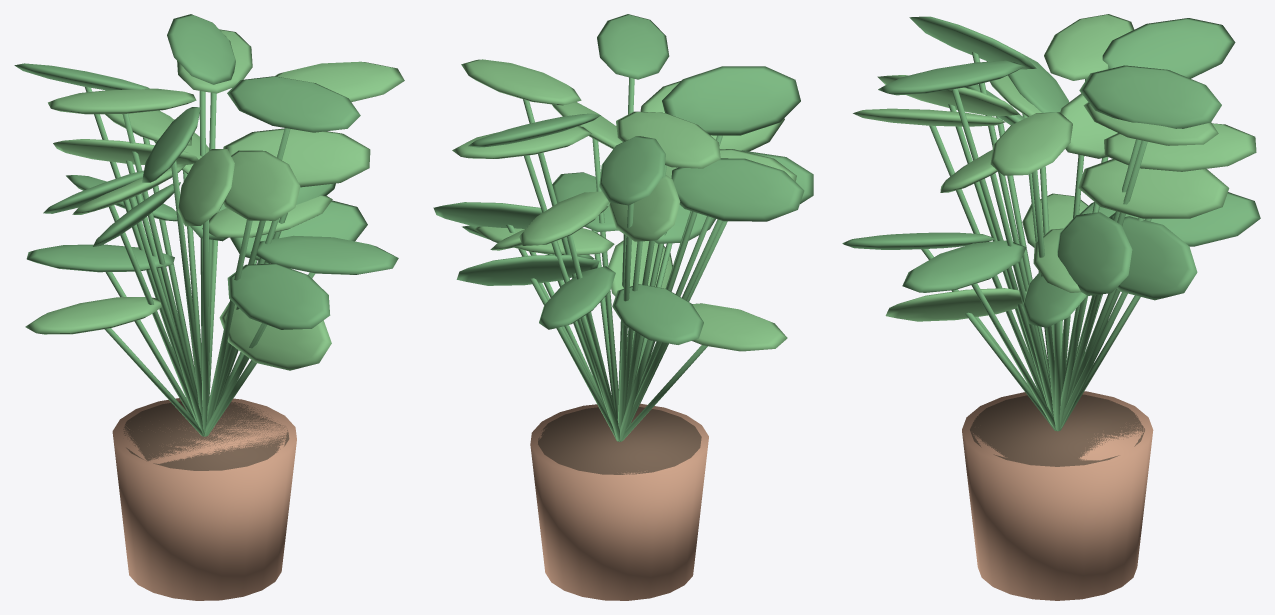
File: house_plant.glb
3 views of the same model, side by side, from view 1: azimuth 30°, elevation 25°; view 2: azimuth 150°, elevation 25°; view 3: azimuth 270°, elevation 25° (orthographic). The views are drawn at different scales.
Parts seen in each view (by area): view 1: Cone, Cylinder, Sphere.010, Sphere.002, Sphere.005, Sphere.015, Sphere.018, Sphere.023, Sphere.024, Sphere.017, Sphere.007, Sphere.013 (+30 smaller); view 2: Cone, Cylinder, Sphere.020, Sphere.004, Sphere.022, Sphere.009, Sphere.010, Sphere.014, Sphere.017, Sphere.013, Sphere.016, Sphere.001 (+30 smaller); view 3: Cone, Cylinder, Sphere.024, Sphere.011, Sphere.014, Sphere.008, Sphere.016, Sphere.019, Sphere.018, Sphere.013, Sphere.009, Sphere.023 (+30 smaller).
Part boxes in pixels (box(x1,y1,x2,y2)): Cone: box(112, 398, 296, 600); Cylinder: box(123, 401, 289, 470); Sphere.010: box(227, 76, 360, 132); Sphere.002: box(227, 263, 330, 329); Sphere.005: box(223, 128, 370, 187); Sphere.015: box(223, 150, 300, 220); Sphere.018: box(250, 235, 398, 274); Sphere.023: box(219, 302, 331, 370); Sphere.024: box(167, 14, 235, 84); Sphere.017: box(25, 297, 161, 334); Sphere.007: box(177, 149, 234, 226); Sphere.013: box(275, 61, 404, 101); Cone: box(530, 403, 708, 600); Cylinder: box(538, 407, 701, 474); Sphere.020: box(662, 66, 800, 135); Sphere.004: box(671, 158, 804, 221); Sphere.022: box(612, 284, 703, 344); Sphere.009: box(616, 111, 720, 168); Sphere.010: box(597, 14, 669, 79); Sphere.014: box(599, 136, 665, 205); Sphere.017: box(692, 303, 787, 351); Sphere.013: box(461, 59, 581, 105); Sphere.016: box(456, 254, 599, 285); Sphere.001: box(608, 175, 680, 241); Cone: box(962, 391, 1153, 600); Cylinder: box(970, 394, 1144, 466); Sphere.024: box(1079, 65, 1221, 128); Sphere.011: box(1078, 159, 1229, 218); Sphere.014: box(1102, 18, 1235, 78); Sphere.008: box(1057, 212, 1132, 295); Sphere.016: box(1116, 216, 1197, 300); Sphere.019: box(1104, 123, 1256, 171); Sphere.018: box(902, 240, 1026, 292); Sphere.013: box(990, 112, 1072, 175); Sphere.009: box(1044, 14, 1134, 80); Sphere.023: box(885, 288, 1026, 321).
Bounding box in the file's own units: 1.05 × 1.44 × 1.05.
